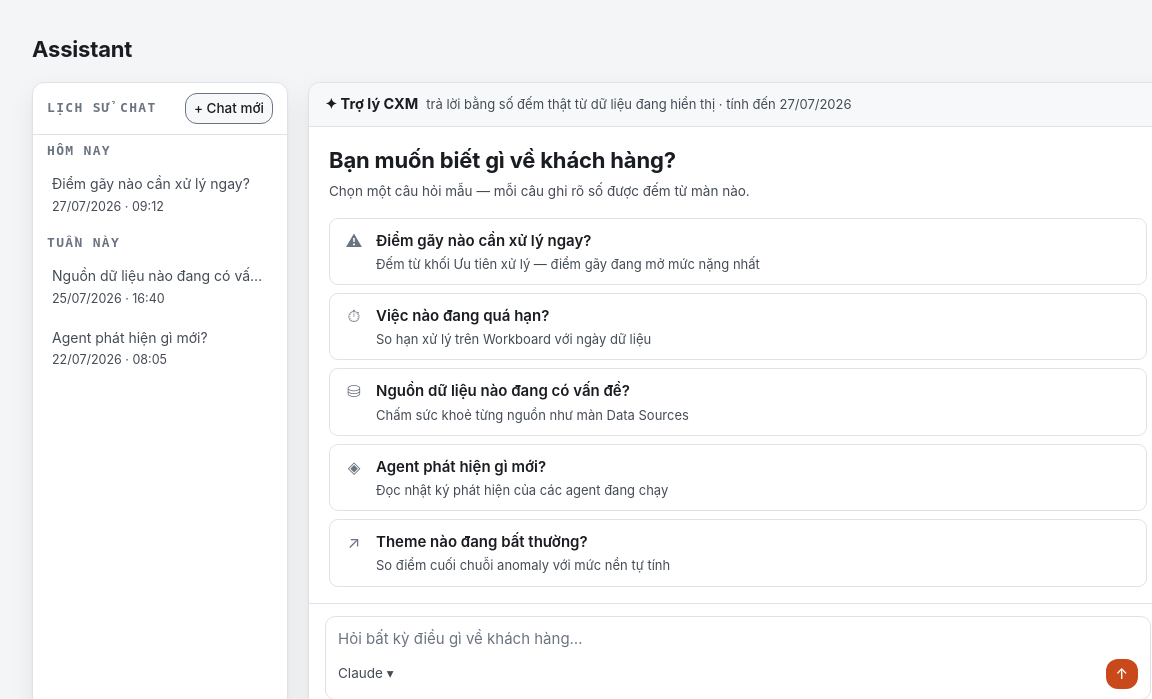
Scenario: lịch sử phiên chat › phiên mẫu hiện đủ trong panel, nhóm theo asOf (không đồng hồ thật); bấm mở lại đúng hội thoại
Expected: the text "Hôm nay" is shown, [47,143,111,158]
Expected: the text "Tuần này" is shown, [47,235,120,250]
What coordinates should you click on to do the following:
click the button with test id "assistant-session-as-seed-2"
I would click on:
 (160, 287)
Its box is [41,258,279,316].
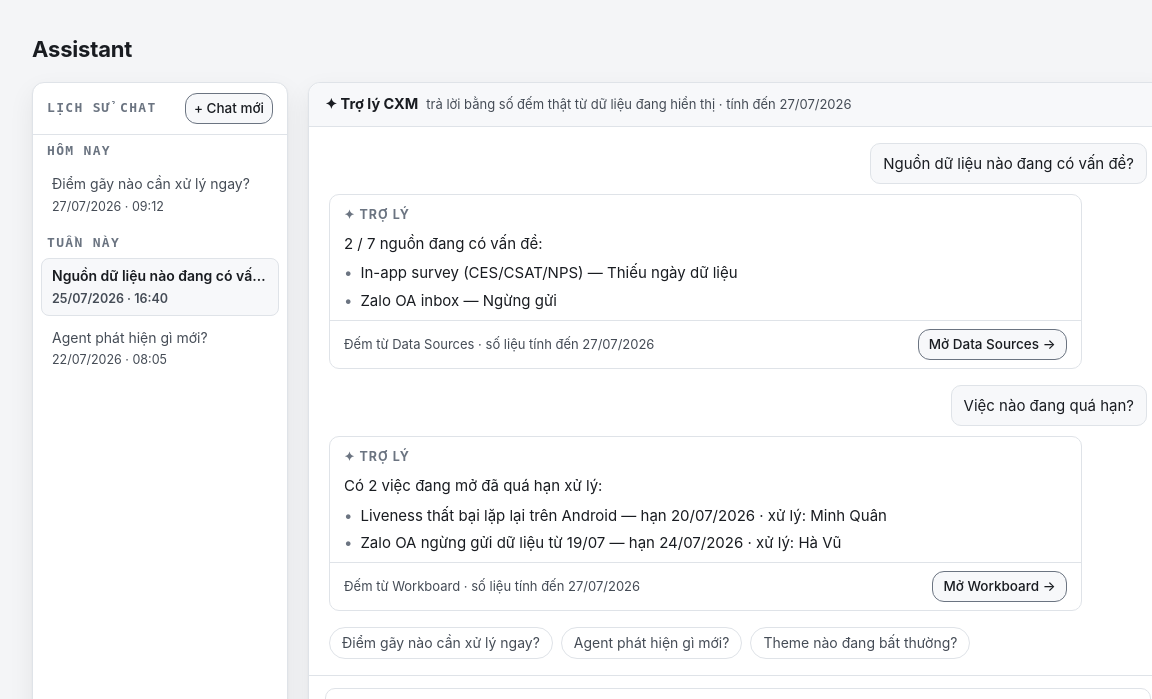
Expected: the element with test id "assistant-turn-1" is shown, [329,385,1147,611]
